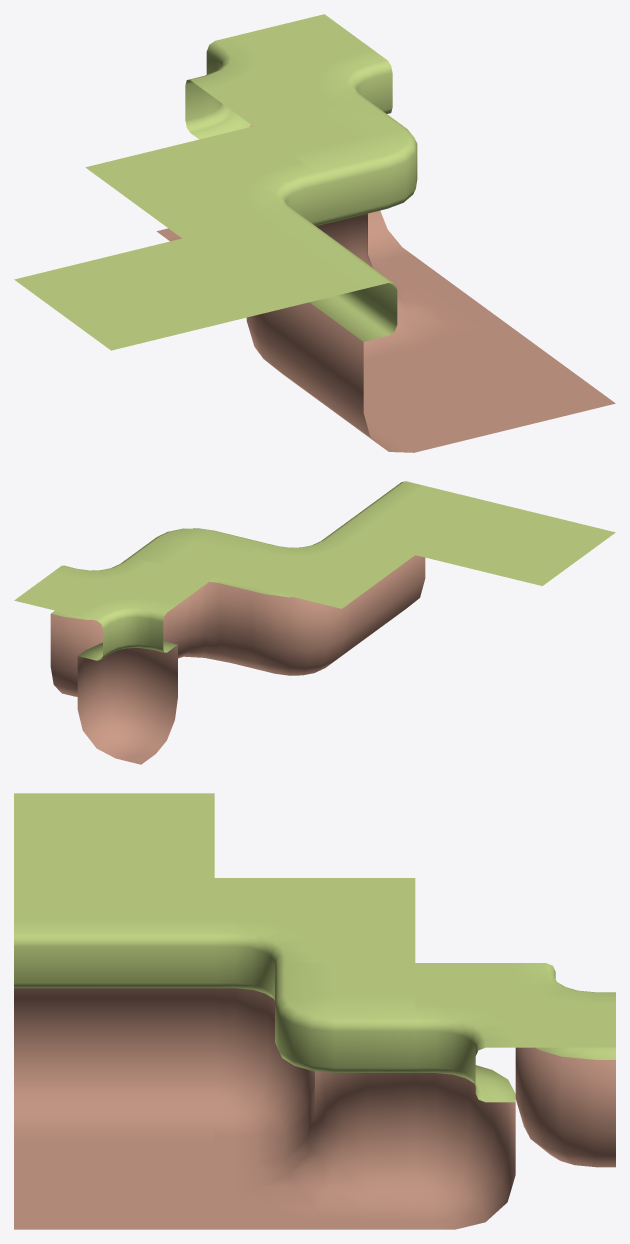
The model's file is Tileset.glb.
3 views of the same model, one above another, from view 1: azimuth 30°, elevation 25°; view 2: azimuth 150°, elevation 25°; view 3: azimuth 270°, elevation 25° (orthographic). The views are drawn at different scales.
Visible parts, largest first — view 1: TileSide, TileCornerOut, TileDiagonal, TileCornerIn, TileTop, TileBottom; view 2: TileDiagonal, TileCornerIn, TileCornerOut, TileSide, TileTop; view 3: TileSide, TileDiagonal, TileCornerOut, TileCornerIn, TileTop, TileBottom.
Boxes of the visible parts, <box> form: TileSide: <box>182,212,447,452</box>; TileCornerOut: <box>254,99,518,369</box>; TileDiagonal: <box>156,14,420,269</box>; TileCornerIn: <box>85,126,321,378</box>; TileTop: <box>14,238,278,350</box>; TileBottom: <box>363,332,615,444</box>; TileDiagonal: <box>14,557,213,764</box>; TileCornerIn: <box>215,535,414,675</box>; TileCornerOut: <box>128,528,263,670</box>; TileSide: <box>329,481,488,660</box>; TileTop: <box>415,501,615,585</box>; TileSide: <box>14,878,214,1144</box>; TileDiagonal: <box>415,963,615,1229</box>; TileCornerOut: <box>214,963,415,1229</box>; TileCornerIn: <box>214,878,415,1144</box>; TileTop: <box>14,793,214,877</box>; TileBottom: <box>14,1145,214,1229</box>.
Bounding box in the file's own units: 6 × 2 × 6.
